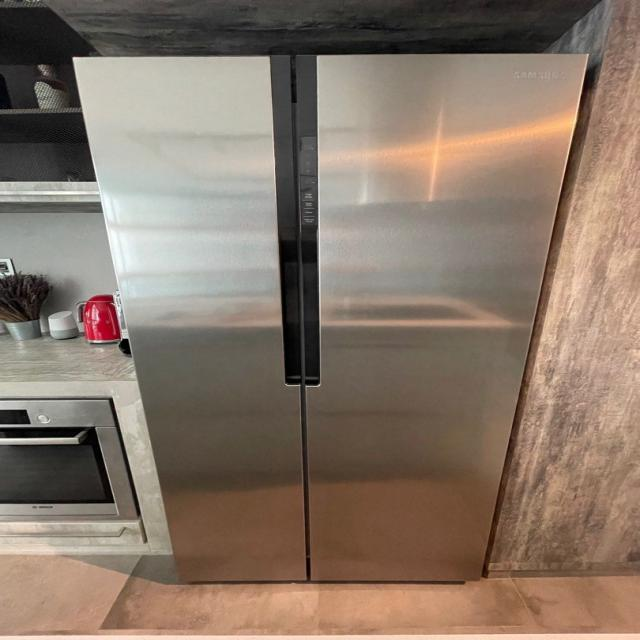refrigerator: (73, 57, 592, 583)
